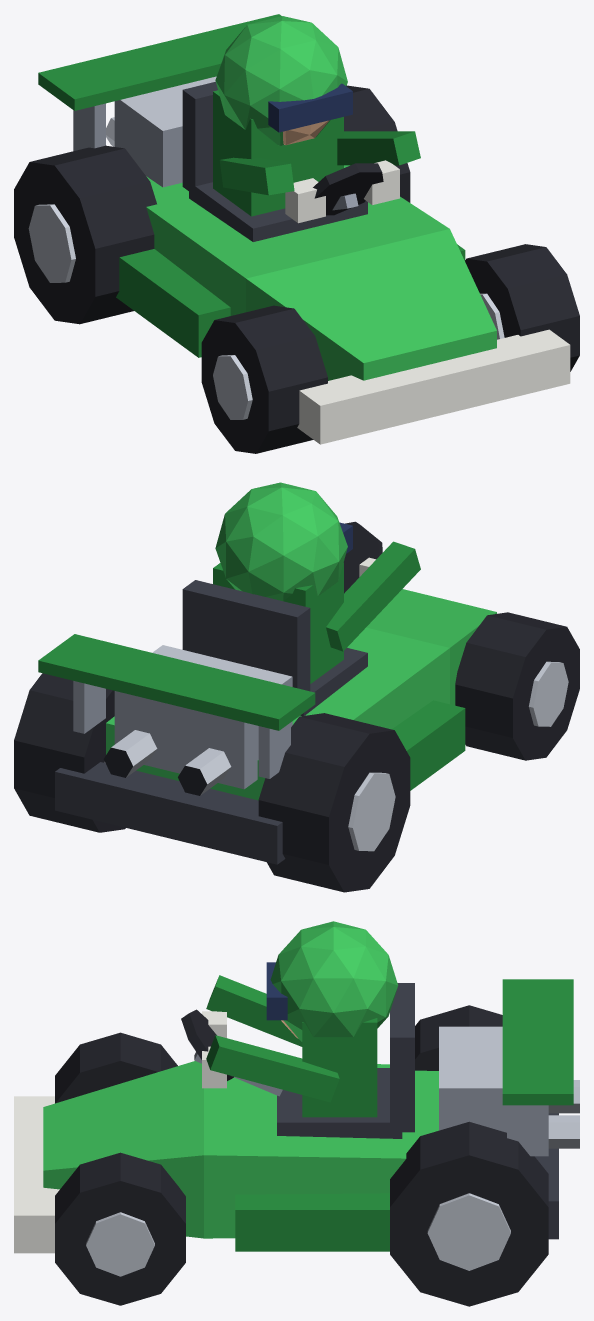
Rendered from kart_green.glb.
3 views of the same model, one above another, from view 1: azimuth 30°, elevation 25°; view 2: azimuth 150°, elevation 25°; view 3: azimuth 270°, elevation 25° (orthographic). The views are drawn at different scales.
Visible parts, largest first — view 1: kart_green; view 2: kart_green; view 3: kart_green.
Part boxes in pixels (left/top/right/bottom): kart_green: left=14, top=14, right=579, bottom=453; kart_green: left=14, top=482, right=579, bottom=892; kart_green: left=14, top=921, right=579, bottom=1306.
Bounding box in the file's own units: 1.75 × 1.61 × 2.71.
1 material, 1 textured.
